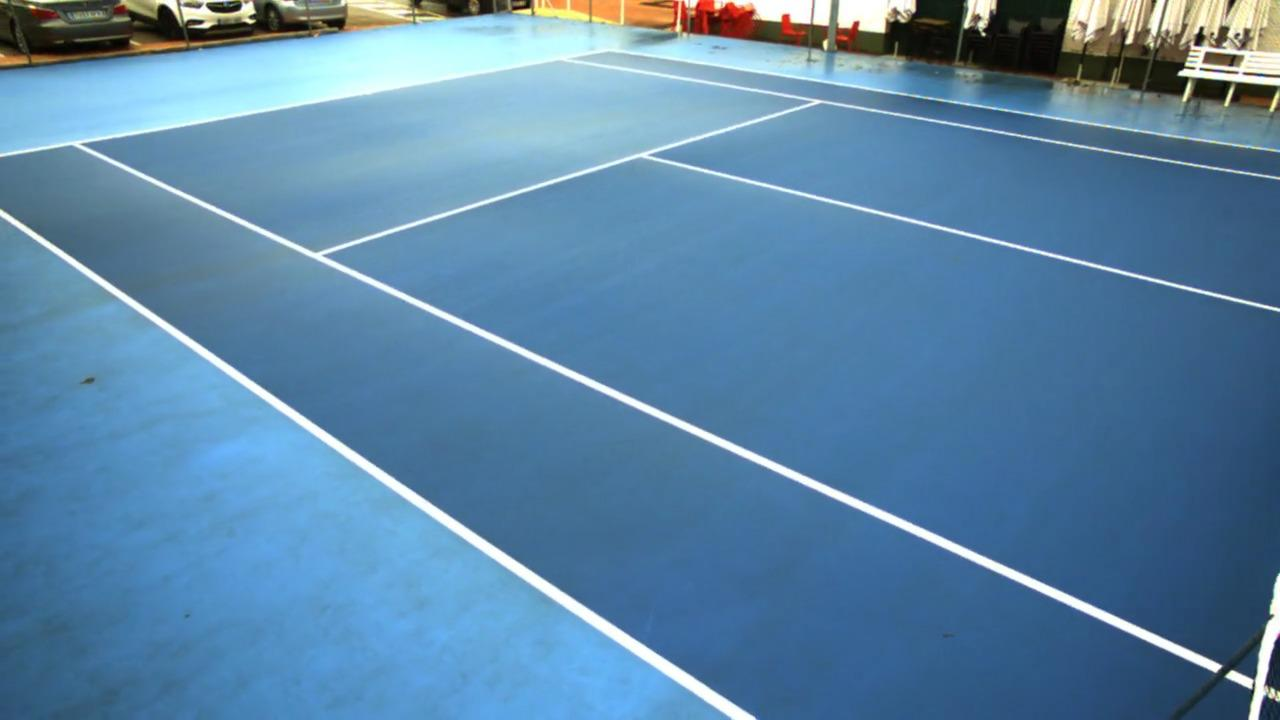cancha_tenis: (70, 54, 1280, 720)
point_f1: (63, 129, 94, 155)
point_f2: (549, 45, 580, 71)
point_fc1: (357, 79, 381, 104)
point_i1: (299, 242, 339, 269)
point_i2: (799, 90, 833, 114)
point_ic1: (630, 143, 663, 170)
